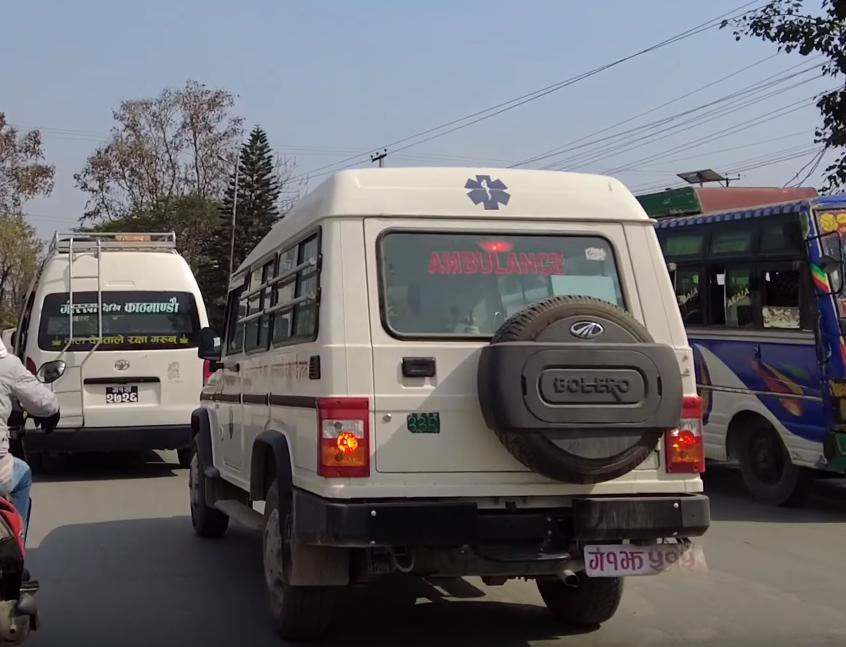ambulance: (183, 162, 716, 647)
bus: (628, 166, 846, 500)
micro_bus: (20, 216, 222, 465)
